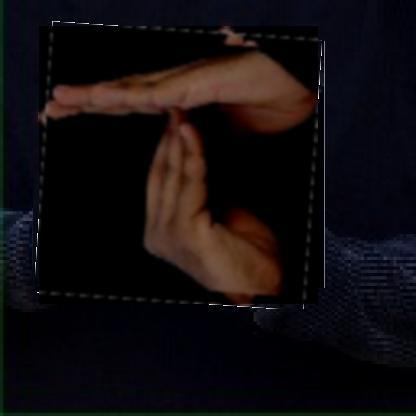Z: (38, 26, 318, 305)
